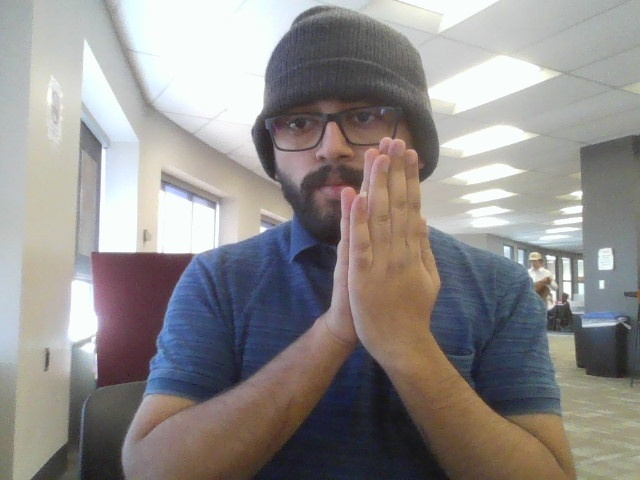start: (325, 134, 456, 360)
